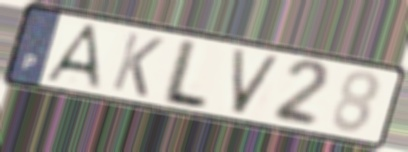2: (271, 58, 333, 127)
8: (330, 69, 384, 139)
A: (41, 21, 103, 92)
K: (108, 29, 167, 100)
L: (157, 37, 213, 113)
V: (228, 46, 285, 118)
